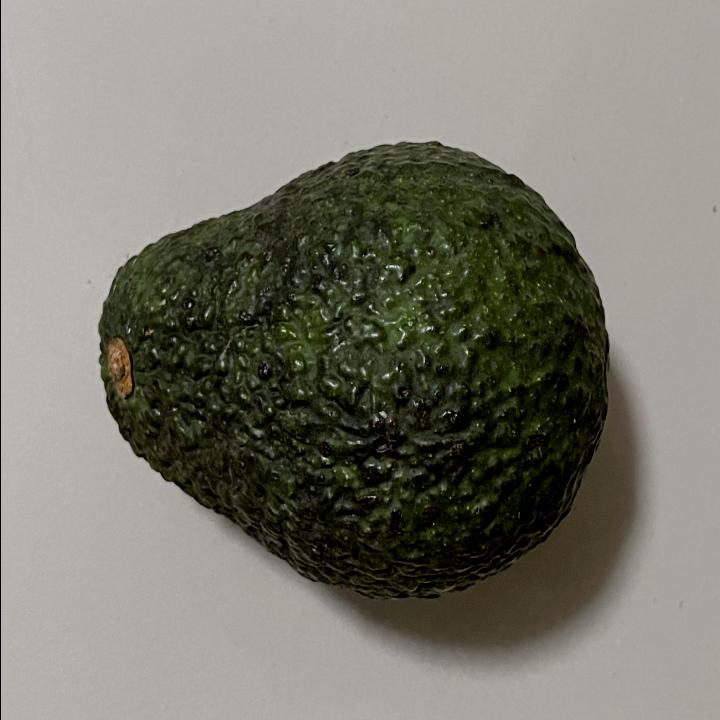Level1: (77, 121, 633, 624)
